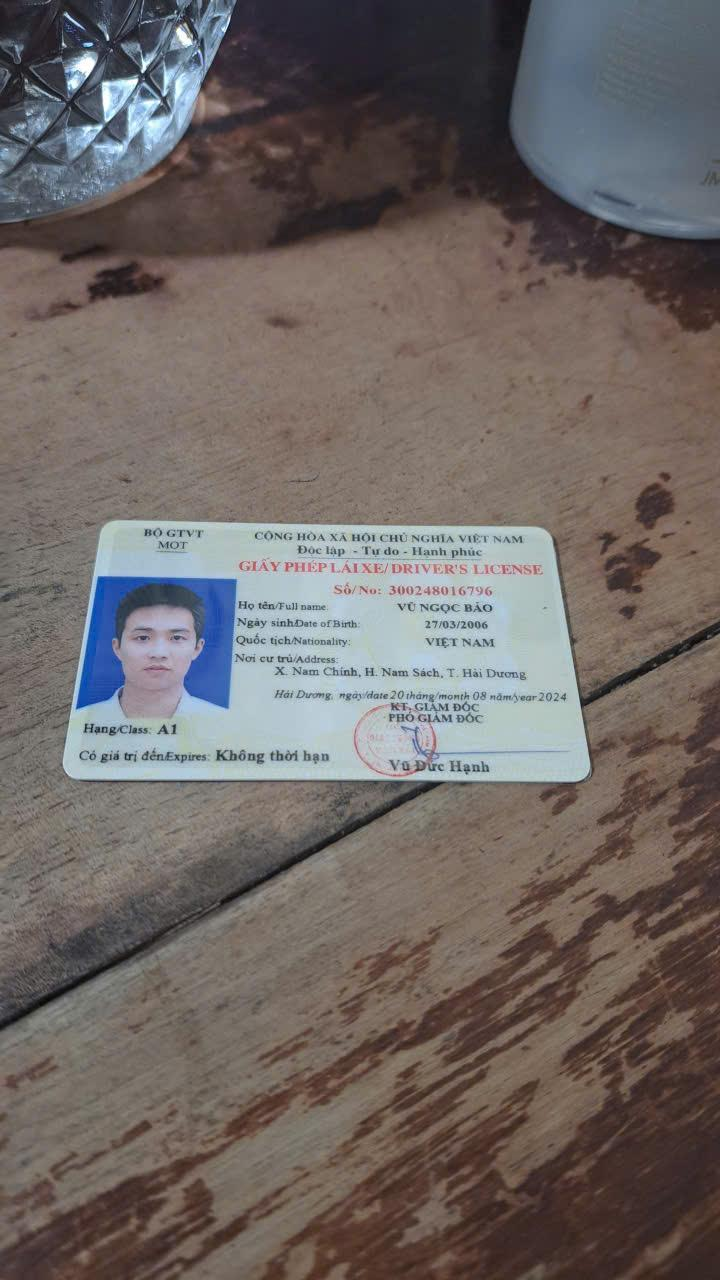gplx: (54, 515, 596, 787)
